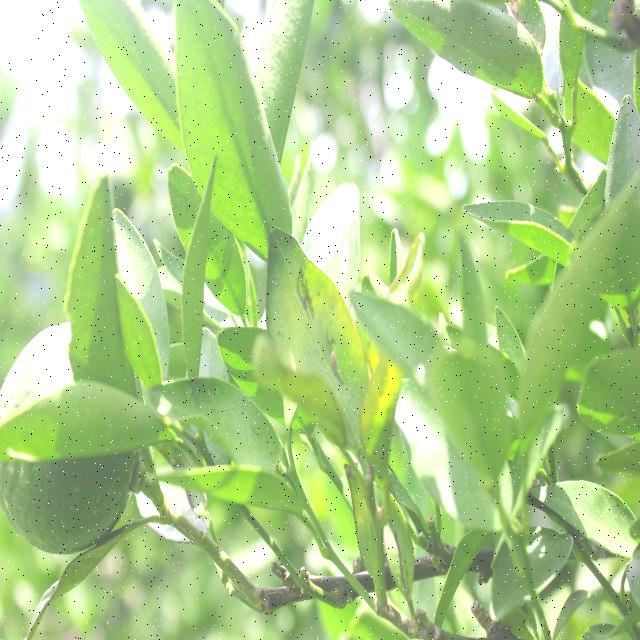blackspot: (272, 256, 360, 431), (422, 5, 534, 89), (192, 385, 276, 468), (581, 402, 635, 438), (176, 184, 205, 230)
